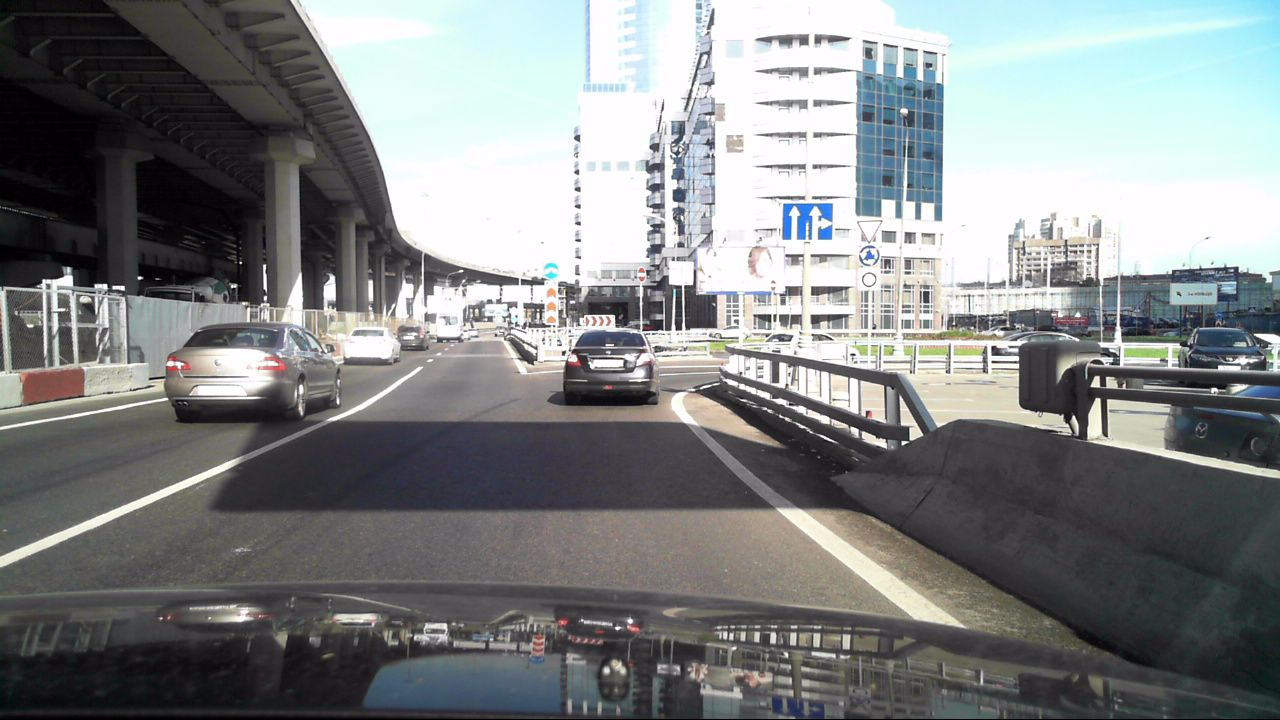Round-About: (858, 242, 881, 267)
